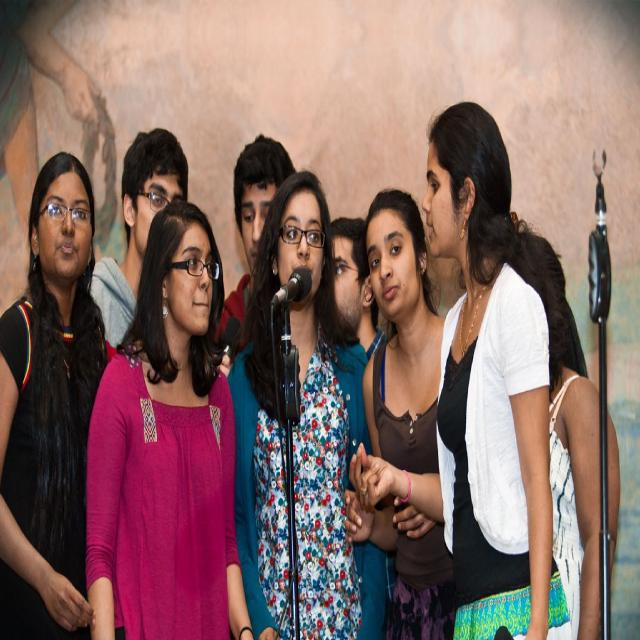body: (346, 96, 586, 639), (81, 197, 262, 639), (228, 170, 389, 640), (0, 148, 110, 640), (343, 184, 458, 639), (504, 229, 621, 640), (0, 0, 119, 257), (86, 126, 191, 360), (209, 133, 296, 380), (327, 216, 387, 364)
